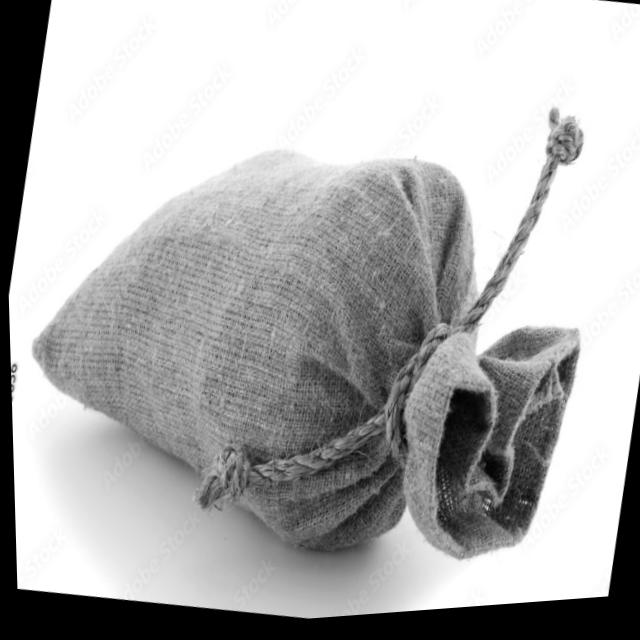sack: (3, 93, 612, 612)
